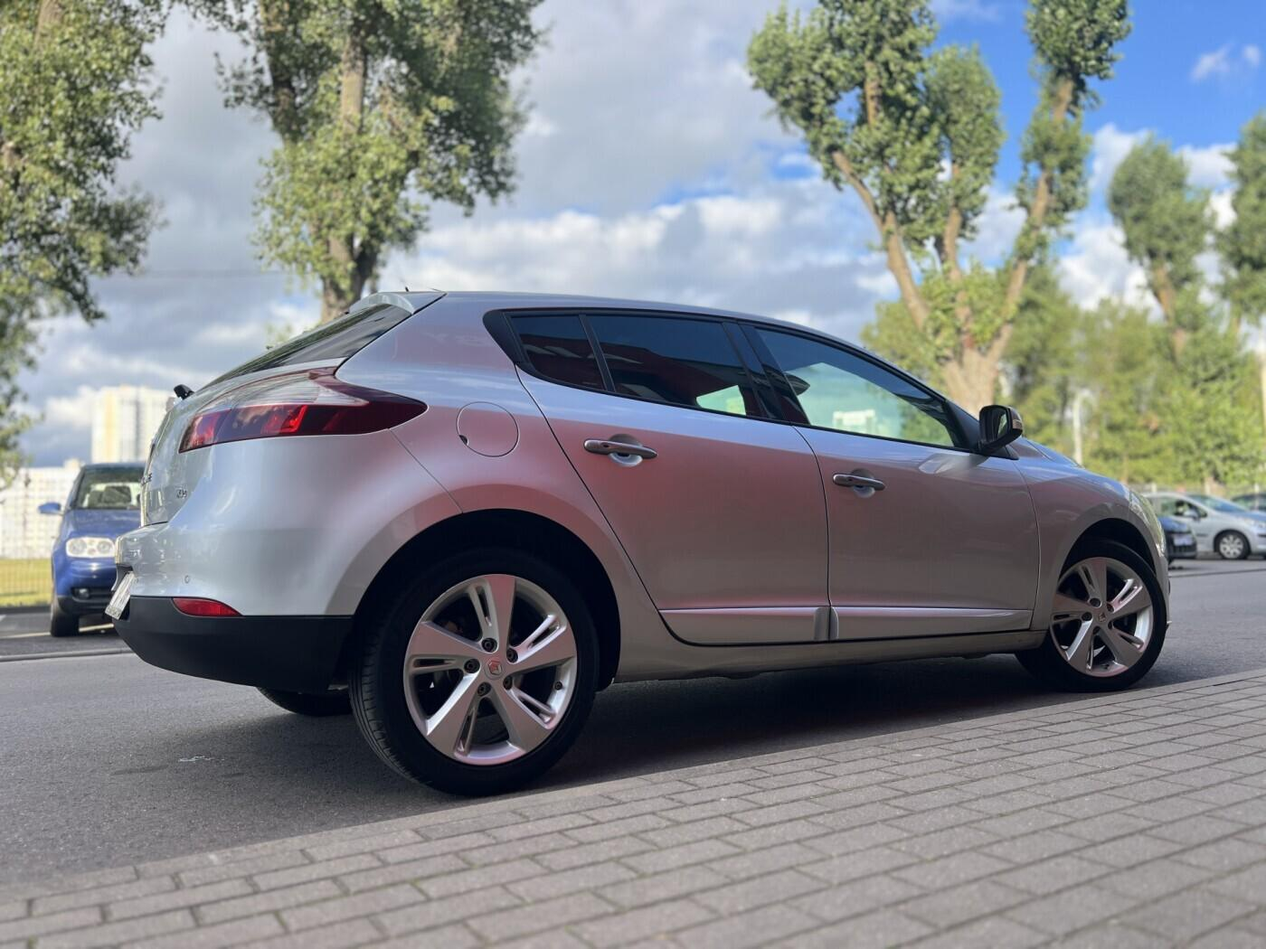Megane_2014-2016: (107, 279, 1183, 779)
